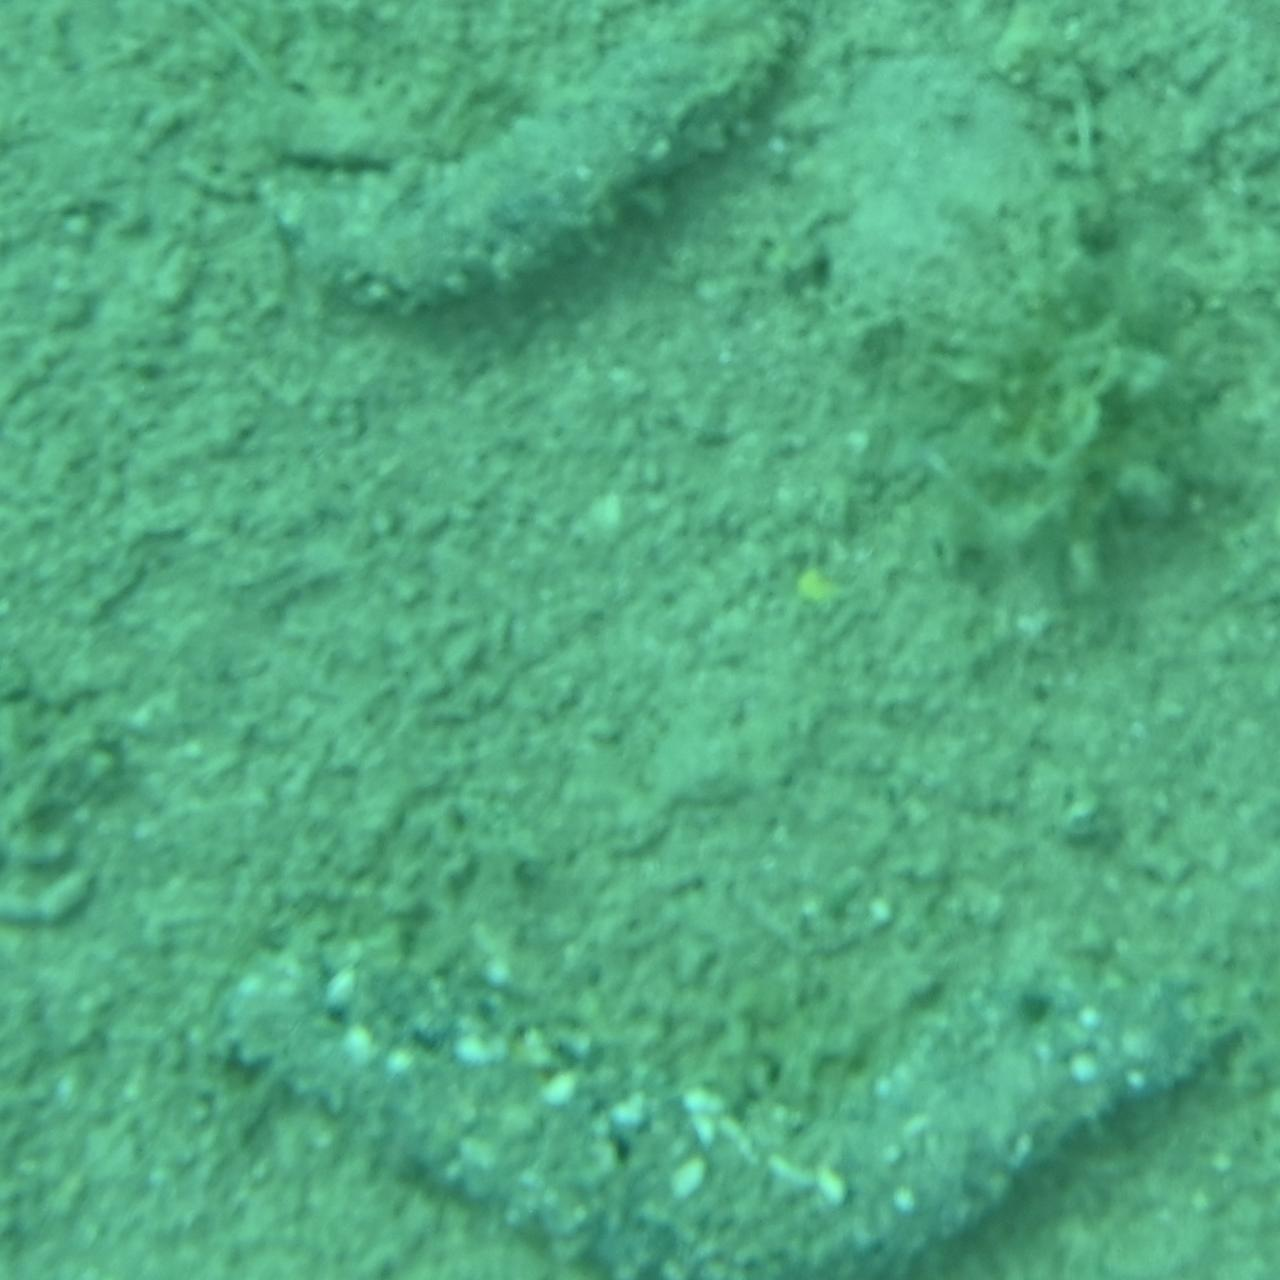Holothuria tubulosa: (220, 945, 1240, 1280), (263, 0, 839, 349)
